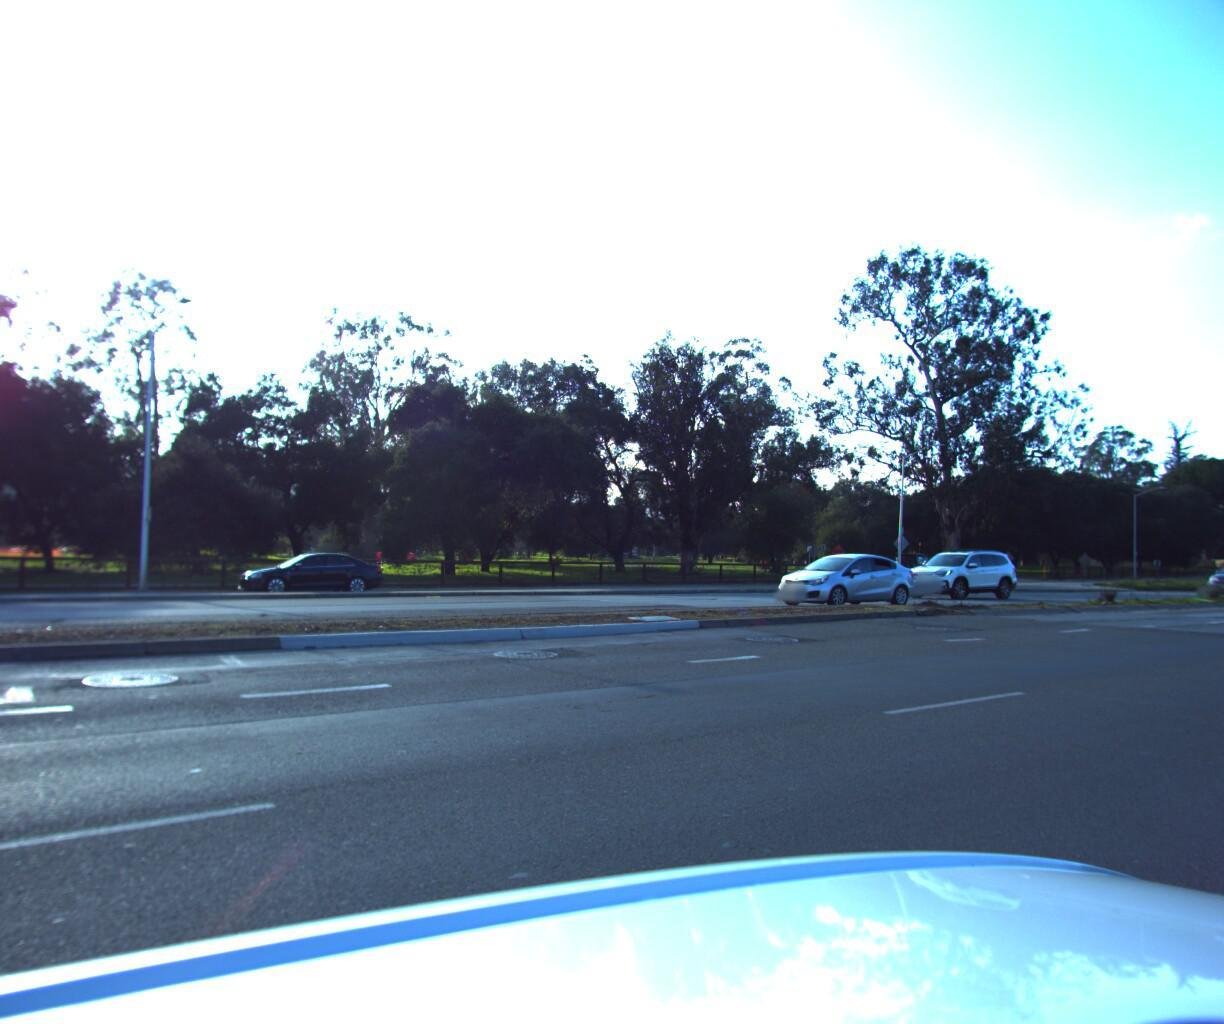car: (764, 545, 923, 604), (231, 551, 392, 598), (905, 541, 1024, 595), (1194, 552, 1224, 593)
other_vehicle: (869, 547, 937, 577)
